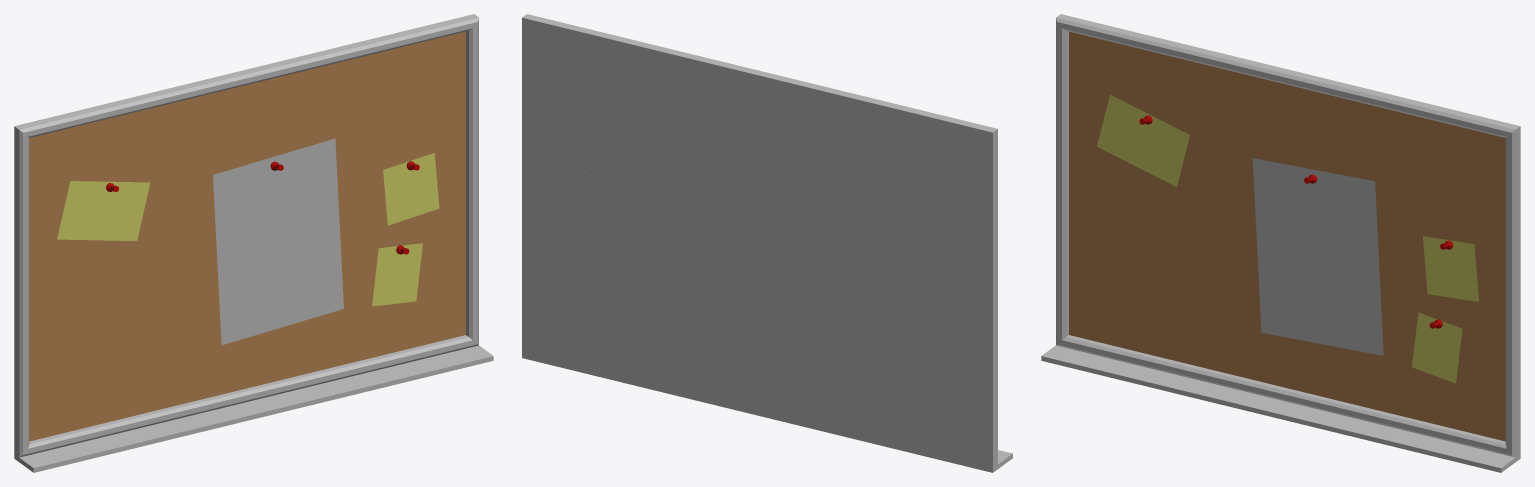
Rendered from msgboard.glb.
3 views of the same model, side by side, from view 1: azimuth 30°, elevation 25°; view 2: azimuth 150°, elevation 25°; view 3: azimuth 330°, elevation 25° (orthographic). The views are drawn at different scales.
Visible parts, largest first — view 1: msgboard; view 2: msgboard; view 3: msgboard.
Part boxes in pixels (box(x1,y1,x2,y2)): msgboard: box(14, 14, 493, 472); msgboard: box(522, 14, 1012, 472); msgboard: box(1041, 14, 1520, 472).
Bounding box in the file's own units: 1.16 × 0.8 × 0.0864.
